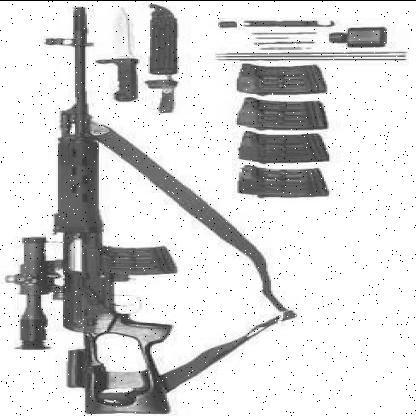rifle: (26, 5, 201, 416)
